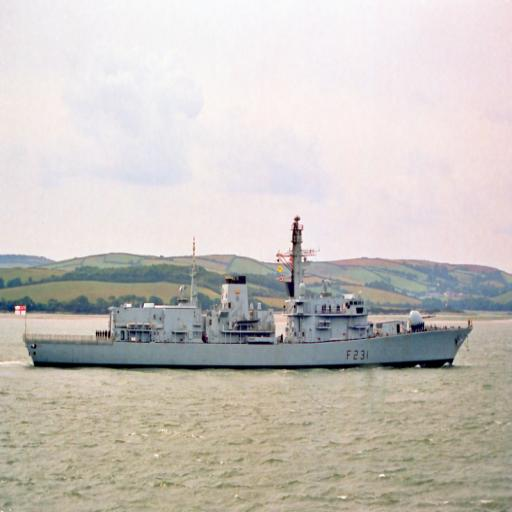Fragata: (21, 207, 477, 370)
